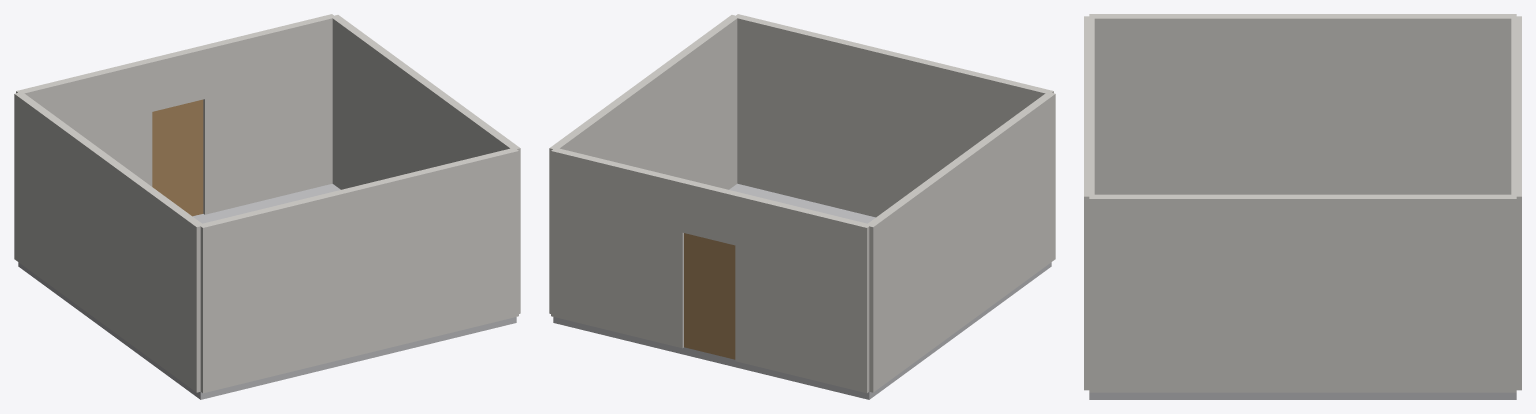
The model's file is explicit-elevation.gltf.
3 views of the same model, side by side, from view 1: azimuth 30°, elevation 25°; view 2: azimuth 150°, elevation 25°; view 3: azimuth 270°, elevation 25° (orthographic). The views are drawn at different scales.
Visible parts, largest first — view 1: WALL|F1|room|wS_seg0, WALL|F1|room|wW_seg0, WALL|F1|room|wN_seg2, WALL|F1|room|wE_seg0, WALL|F1|room|wN_seg0, DOOR|F1|room|0, FLOOR|F1|slab|0, WALL|F1|room|wN_seg1; view 2: WALL|F1|room|wS_seg0, WALL|F1|room|wW_seg0, WALL|F1|room|wN_seg0, WALL|F1|room|wN_seg2, WALL|F1|room|wE_seg0, DOOR|F1|room|0, FLOOR|F1|slab|0, WALL|F1|room|wN_seg1; view 3: WALL|F1|room|wE_seg0, WALL|F1|room|wW_seg0, FLOOR|F1|slab|0, WALL|F1|room|wS_seg0, WALL|F1|room|wN_seg2, WALL|F1|room|wN_seg0.
Boxes of the visible parts, box(x1,y1,x2,y2) form: WALL|F1|room|wS_seg0: box(199, 147, 518, 393); WALL|F1|room|wW_seg0: box(14, 92, 202, 392); WALL|F1|room|wN_seg2: box(200, 14, 335, 214); WALL|F1|room|wE_seg0: box(332, 15, 520, 313); WALL|F1|room|wN_seg0: box(16, 59, 152, 186); DOOR|F1|room|0: box(152, 99, 203, 216); FLOOR|F1|slab|0: box(18, 183, 516, 399); WALL|F1|room|wN_seg1: box(148, 46, 204, 111); WALL|F1|room|wS_seg0: box(734, 14, 1053, 217); WALL|F1|room|wW_seg0: box(866, 92, 1055, 392); WALL|F1|room|wN_seg0: box(735, 192, 870, 393); WALL|F1|room|wN_seg2: box(551, 147, 686, 348); WALL|F1|room|wE_seg0: box(549, 15, 738, 313); DOOR|F1|room|0: box(684, 233, 735, 359); FLOOR|F1|slab|0: box(553, 183, 1051, 399); WALL|F1|room|wN_seg1: box(682, 179, 739, 245); WALL|F1|room|wE_seg0: box(1089, 194, 1516, 392); WALL|F1|room|wW_seg0: box(1089, 14, 1516, 194); FLOOR|F1|slab|0: box(1089, 392, 1516, 399); WALL|F1|room|wS_seg0: box(1084, 16, 1094, 390); WALL|F1|room|wN_seg2: box(1511, 121, 1521, 390); WALL|F1|room|wN_seg0: box(1511, 16, 1521, 91).
Size of what is drawn, in the model's own units: 6.15 by 3.15 by 6.15.
